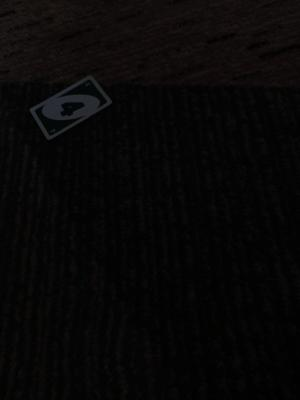num_4: (41, 98, 93, 116)
